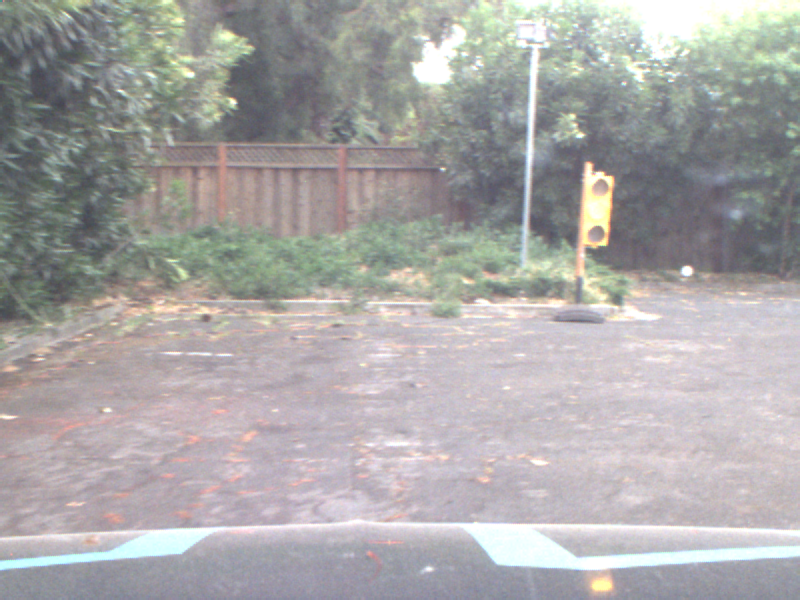Yellow: (580, 171, 612, 250)
